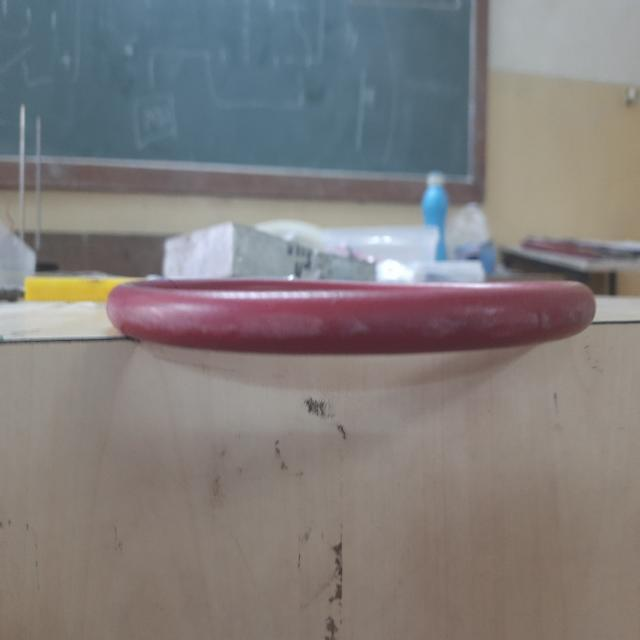daire: (117, 280, 582, 356)
